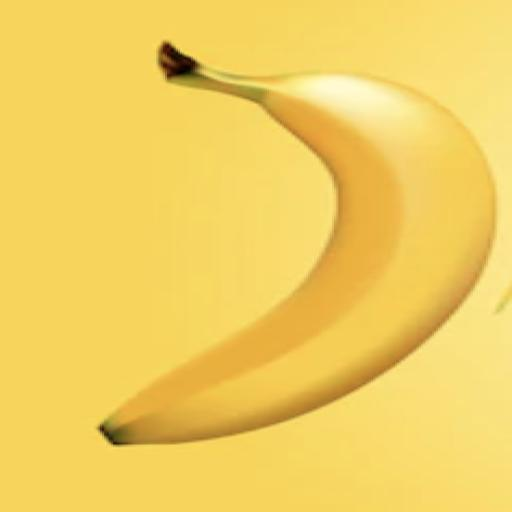banana: (100, 44, 494, 443)
